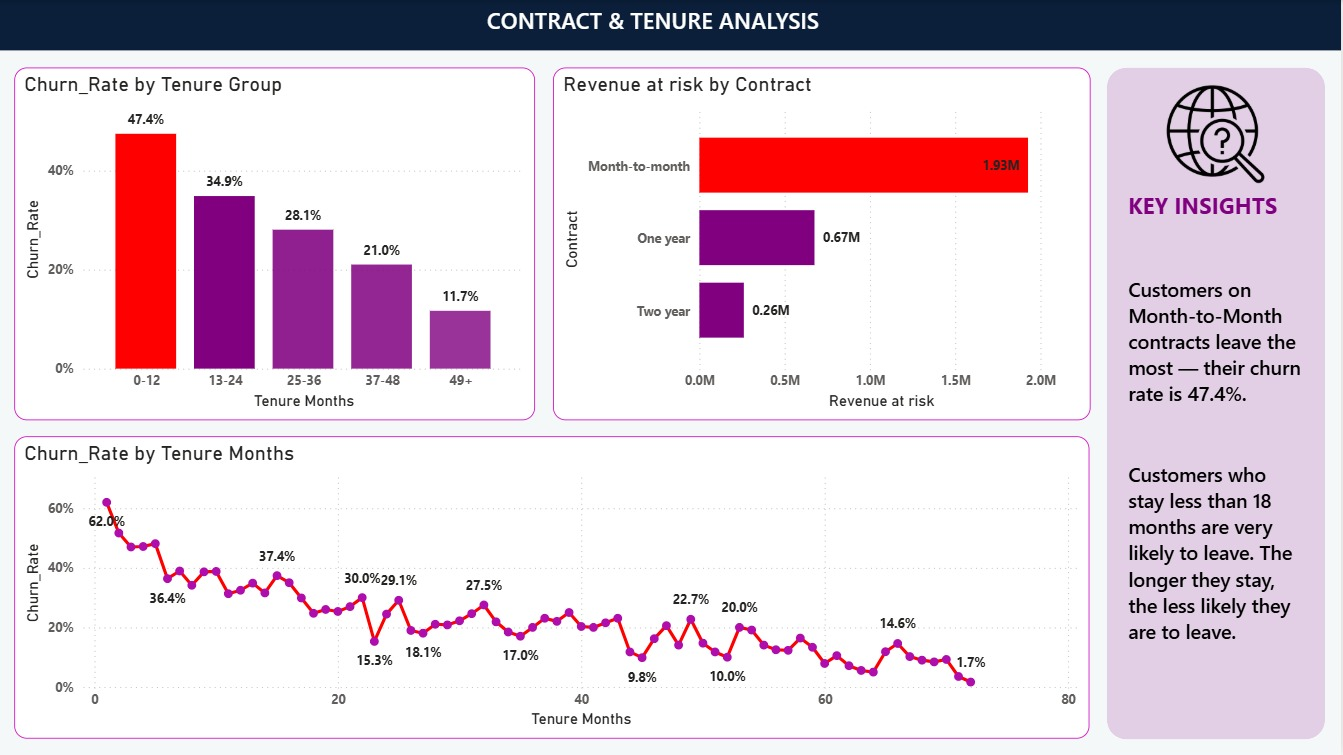

The page's visual inventory and layout, read from the dashboard file:
{"tool":"powerbi","page":{"name":"Contract & Tenure","canvas":[1280,720],"ordinal":2},"visuals":[{"type":"shape","box":[0,0,1280,48],"z":0},{"type":"textbox","box":[400,0,448,96],"z":1000},{"type":"lineChart","fields":{"Y":["Telco_Churn.Churn_Rate"],"Category":["Telco_Churn.Tenure Months"]},"box":[16,416,1024,288],"z":2000},{"type":"clusteredColumnChart","fields":{"Y":["Telco_Churn.Churn_Rate"],"Category":["Telco_Churn.Tenure Group"]},"box":[16,64,496,336],"z":3000},{"type":"clusteredBarChart","fields":{"Y":["Telco_Churn.Revenue at risk"],"Category":["Telco_Churn.Contract"]},"box":[528,64,512,336],"z":4000},{"type":"shape","box":[1056,64,208,640],"z":5000},{"type":"textbox","box":[1072,176,176,496],"z":6000},{"type":"image","box":[1104,80,112,96],"z":7000}]}

Visuals, with their boxes in screenshot pixels (x1, y1, x2, y2), scaled from the page's 1280x720 canvas onto the 1343x755 screenshot:
shape: {"left": 0, "top": 0, "right": 1342, "bottom": 50}
textbox: {"left": 420, "top": 0, "right": 890, "bottom": 101}
lineChart - Telco_Churn.Churn_Rate x Telco_Churn.Tenure Months: {"left": 17, "top": 436, "right": 1091, "bottom": 738}
clusteredColumnChart - Telco_Churn.Churn_Rate x Telco_Churn.Tenure Group: {"left": 17, "top": 67, "right": 537, "bottom": 419}
clusteredBarChart - Telco_Churn.Revenue at risk x Telco_Churn.Contract: {"left": 554, "top": 67, "right": 1091, "bottom": 419}
shape: {"left": 1108, "top": 67, "right": 1326, "bottom": 738}
textbox: {"left": 1125, "top": 185, "right": 1309, "bottom": 705}
image: {"left": 1158, "top": 84, "right": 1276, "bottom": 185}
